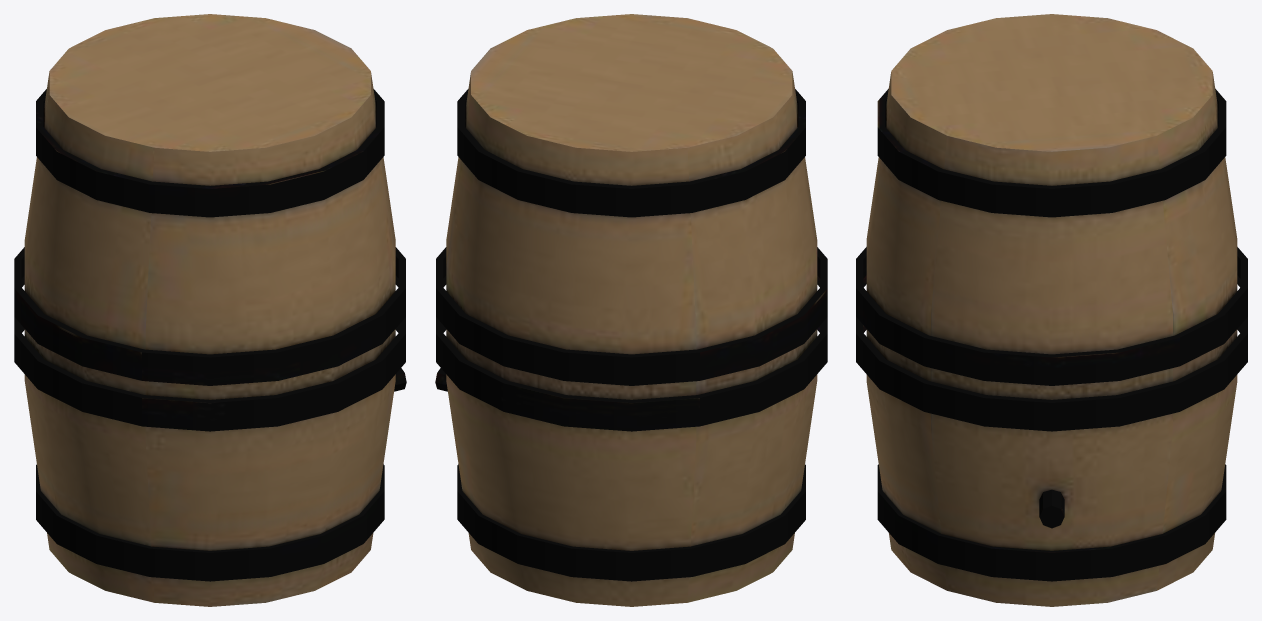
The model's file is keg.glb.
3 views of the same model, side by side, from view 1: azimuth 30°, elevation 25°; view 2: azimuth 150°, elevation 25°; view 3: azimuth 270°, elevation 25° (orthographic).
Visible parts, largest first — view 1: band0.08; view 2: band0.08; view 3: band0.08.
Boxes of the visible parts, bbox=[...] form: band0.08: bbox=[14, 14, 406, 606]; band0.08: bbox=[435, 14, 827, 606]; band0.08: bbox=[856, 14, 1247, 606].
Size of the model in its own units: 0.667 by 0.8 by 0.6244.
Materials: 1 (1 with a texture image).
